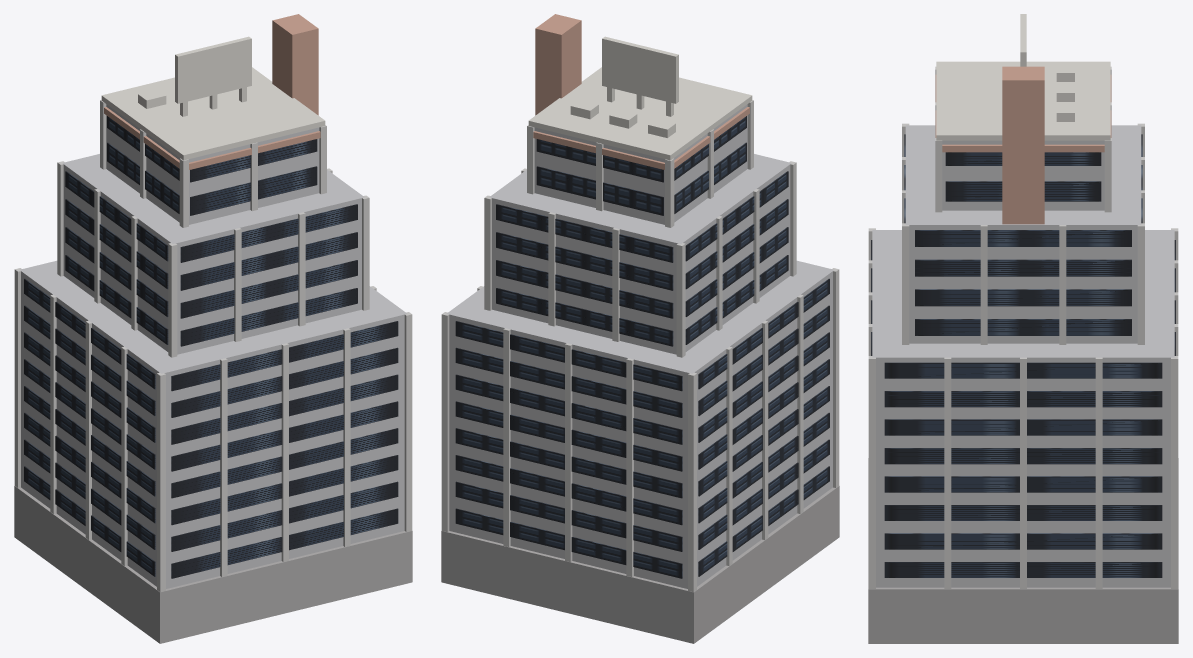
File: skyline-tower-setback-billboard.glb
3 views of the same model, side by side, from view 1: azimuth 30°, elevation 25°; view 2: azimuth 150°, elevation 25°; view 3: azimuth 270°, elevation 25° (orthographic). The views are drawn at different scales.
Parts seen in each view (by area): view 1: windows, body-1, pilasters, podium, body-2, parapet, body-3, roof-detail, core, crown-band; view 2: windows, body-1, pilasters, podium, body-2, parapet, body-3, roof-detail, core, crown-band; view 3: windows, body-1, body-2, podium, pilasters, parapet, core, body-3, roof-detail, crown-band.
Part boxes in pixels (left/top/right/bottom): windows: left=24, top=116, right=398, bottom=578; body-1: left=19, top=260, right=407, bottom=588; pilasters: left=14, top=100, right=412, bottom=592; podium: left=14, top=485, right=412, bottom=643; body-2: left=62, top=154, right=364, bottom=354; parapet: left=101, top=67, right=325, bottom=160; body-3: left=106, top=104, right=319, bottom=224; roof-detail: left=138, top=36, right=251, bottom=116; core: left=272, top=14, right=318, bottom=115; crown-band: left=104, top=107, right=320, bottom=169; windows: left=455, top=116, right=829, bottom=578; body-1: left=446, top=260, right=834, bottom=588; pilasters: left=441, top=100, right=839, bottom=592; podium: left=441, top=485, right=839, bottom=643; body-2: left=489, top=154, right=791, bottom=354; parapet: left=528, top=67, right=752, bottom=160; body-3: left=534, top=104, right=747, bottom=224; roof-detail: left=570, top=36, right=678, bottom=137; core: left=535, top=14, right=581, bottom=115; crown-band: left=533, top=107, right=749, bottom=169; windows: left=871, top=134, right=1175, bottom=577; body-1: left=872, top=230, right=1174, bottom=587; body-2: left=905, top=125, right=1141, bottom=343; podium: left=868, top=458, right=1178, bottom=643; pilasters: left=868, top=66, right=1178, bottom=588; parapet: left=936, top=61, right=1110, bottom=140; core: left=1002, top=66, right=1044, bottom=224; body-3: left=942, top=140, right=1104, bottom=210; roof-detail: left=1020, top=14, right=1074, bottom=121; crown-band: left=935, top=75, right=1111, bottom=152.
Size of the model in its own units: 30.8 by 60 by 30.8.
6 materials, 1 textured.
